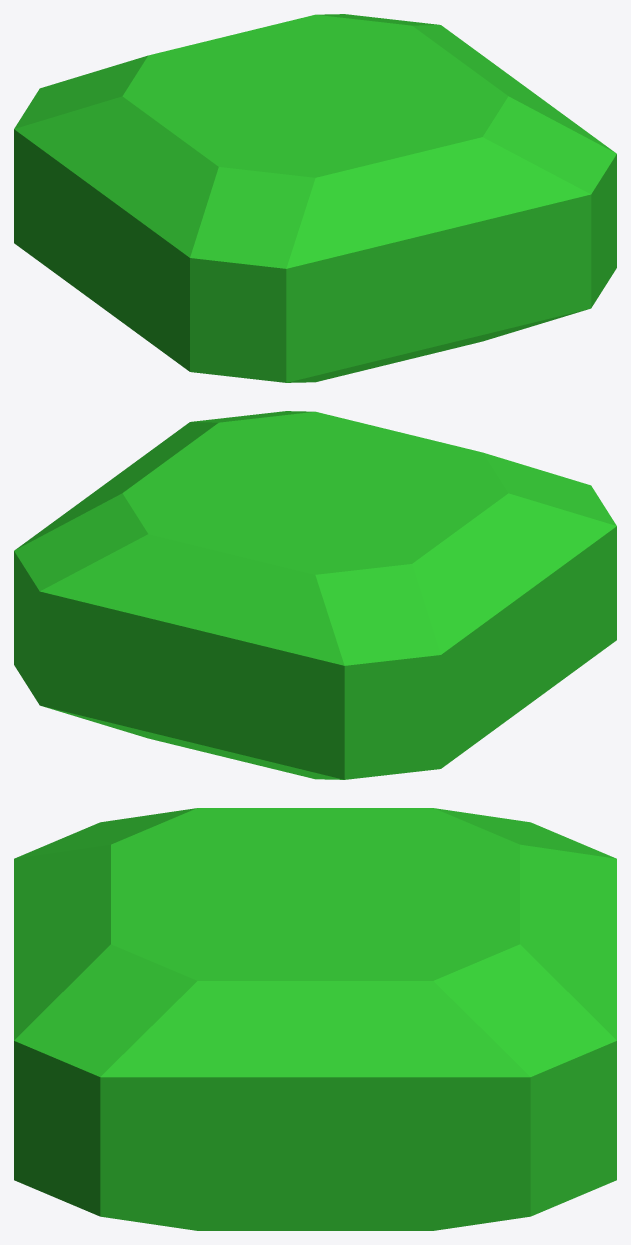
The picture shows the model from 3 angles, top to bottom: view 1: azimuth 30°, elevation 25°; view 2: azimuth 150°, elevation 25°; view 3: azimuth 270°, elevation 25°; orthographic projection. The views are drawn at different scales.
Parts seen in each view (by area): view 1: Cube.028; view 2: Cube.028; view 3: Cube.028.
Part boxes in pixels (x1,y1,x2,y2): Cube.028: (14, 14, 616, 382); Cube.028: (14, 411, 616, 779); Cube.028: (14, 808, 616, 1230).
Bounding box in the file's own units: 0.5 × 0.2288 × 0.5.
1 material, 1 textured.
